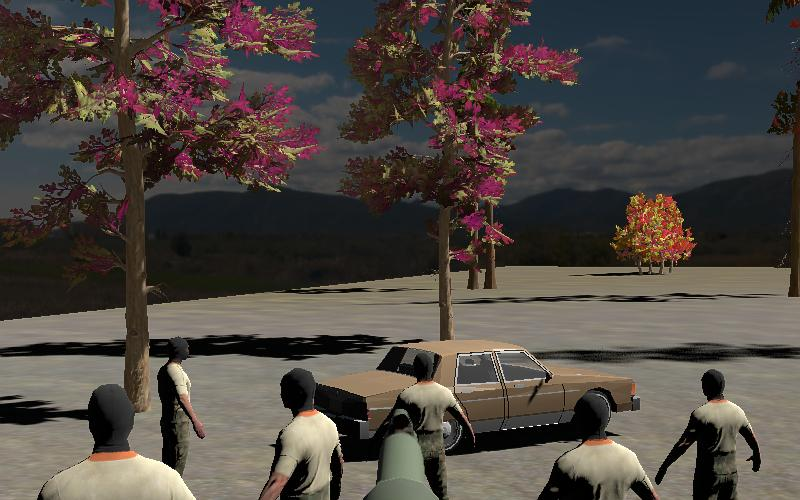Human: (31, 379, 203, 499), (654, 364, 765, 500), (376, 356, 479, 499), (533, 391, 662, 500), (255, 367, 350, 500), (151, 331, 211, 493)
car: (300, 338, 641, 452)
